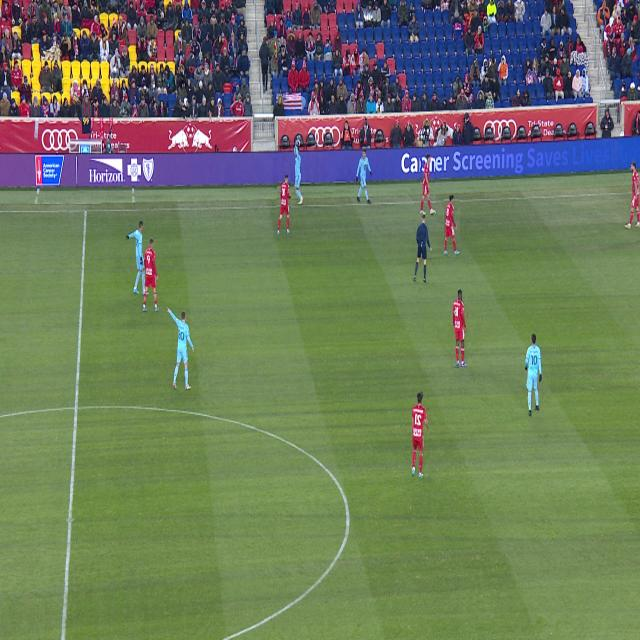player: (167, 307, 194, 389), (126, 222, 148, 294), (412, 393, 429, 477), (525, 334, 542, 416), (143, 238, 159, 311), (453, 290, 467, 367), (625, 162, 640, 229), (444, 196, 460, 255), (277, 175, 291, 235), (421, 155, 435, 215)
referee: (414, 214, 432, 282)
